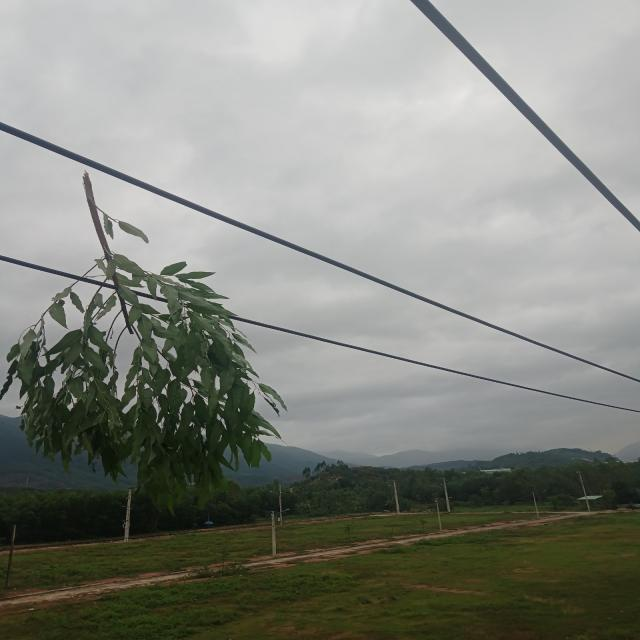植被遮挡: (0, 170, 299, 511)
